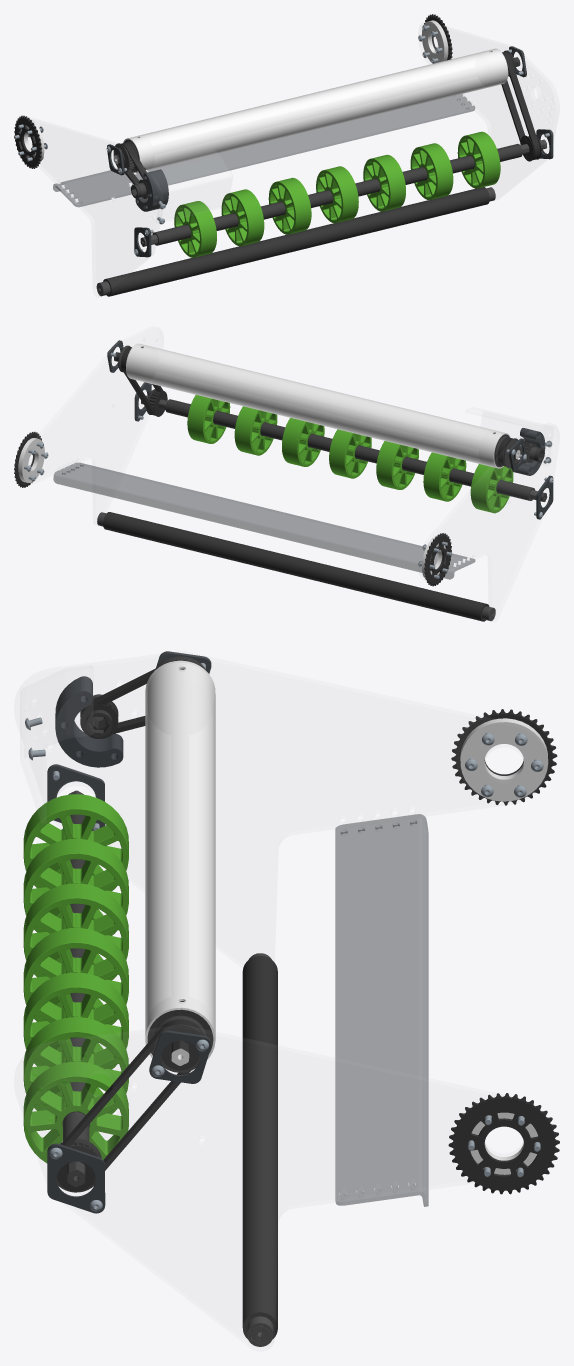
The picture shows the model from 3 angles, top to bottom: view 1: azimuth 30°, elevation 25°; view 2: azimuth 150°, elevation 25°; view 3: azimuth 270°, elevation 25°; orthographic projection. The views are drawn at different scales.
Parts seen in each view (by area): view 1: Deadaxle Tube_23.366_in, 3" Compliant Wheel (35A, 1" Wide, 1/2" Hex Bore) (×7), Part 39, 70T 5M 9mm Wide Belt, Part 51, 36t Aluminum Plate Sprocket (#25, 1.125" Round Bore), Intake Sprocket Spacer, 1/2" Hex Bore Custom Spacer (0.75" OD,2.044" L), 45T 5M 9mm Wide Belt, 3DP Bearing Hat, Roller Endcap_HTD_24_Tooth_Square Nut, 1" Solid Urethane Wheel (45A, 1" Wide, 1/2" Hex Bore); view 2: Deadaxle Tube_23.366_in, 3" Compliant Wheel (35A, 1" Wide, 1/2" Hex Bore) (×7), Part 39, 36t Aluminum Plate Sprocket (#25, 1.125" Round Bore), Intake Sprocket Spacer, Part 51, 1/2" Hex Bore Custom Spacer (0.75" OD,2.044" L), 70T 5M 9mm Wide Belt, 3DP Bearing Hat, 38t Aluminum Plate Sprocket (#25, 1.125" Round Bore), Roller Endcap_HTD_24_Tooth_Square Nut; view 3: Part 39, 3" Compliant Wheel (35A, 1" Wide, 1/2" Hex Bore) (×7), Deadaxle Tube_23.366_in, 38t Aluminum Plate Sprocket (#25, 1.125" Round Bore), Intake Sprocket Spacer (×2), 3DP Bearing Hat (×3), Part 51, 70T 5M 9mm Wide Belt, 36t Aluminum Plate Sprocket (#25, 1.125" Round Bore), Roller Endcap_HTD_21_Tooth_Square Nut, 45T 5M 9mm Wide Belt, 21t Custom HTD 5mm Pulley (0.375" Wide, *0.375" Hex Bore) (+1 smaller).
Boxes of the visible parts, x1,y1,x2,y2 form: Deadaxle Tube_23.366_in: [123, 48, 508, 173]; 3" Compliant Wheel (35A, 1" Wide, 1/2" Hex Bore) (×7): [174, 131, 500, 257]; Part 39: [53, 94, 475, 207]; 70T 5M 9mm Wide Belt: [501, 52, 540, 160]; Part 51: [135, 169, 168, 211]; 36t Aluminum Plate Sprocket (#25, 1.125" Round Bore): [14, 115, 42, 168]; Intake Sprocket Spacer: [421, 20, 448, 63]; 1/2" Hex Bore Custom Spacer (0.75" OD,2.044" L): [152, 224, 191, 245]; 45T 5M 9mm Wide Belt: [121, 142, 148, 197]; 3DP Bearing Hat: [134, 227, 151, 257]; Roller Endcap_HTD_24_Tooth_Square Nut: [113, 137, 146, 173]; 1" Solid Urethane Wheel (45A, 1" Wide, 1/2" Hex Bore): [103, 275, 127, 296]; Deadaxle Tube_23.366_in: [126, 343, 510, 468]; 3" Compliant Wheel (35A, 1" Wide, 1/2" Hex Bore) (×7): [187, 395, 513, 513]; Part 39: [53, 462, 475, 579]; 36t Aluminum Plate Sprocket (#25, 1.125" Round Bore): [424, 533, 451, 586]; Intake Sprocket Spacer: [18, 438, 44, 482]; Part 51: [512, 428, 545, 475]; 1/2" Hex Bore Custom Spacer (0.75" OD,2.044" L): [496, 480, 535, 500]; 70T 5M 9mm Wide Belt: [121, 347, 163, 415]; 3DP Bearing Hat: [536, 475, 553, 519]; 38t Aluminum Plate Sprocket (#25, 1.125" Round Bore): [14, 431, 41, 487]; Roller Endcap_HTD_24_Tooth_Square Nut: [493, 433, 520, 468]; Part 39: [335, 814, 428, 1206]; 3" Compliant Wheel (35A, 1" Wide, 1/2" Hex Bore) (×7): [23, 794, 128, 1163]; Deadaxle Tube_23.366_in: [145, 660, 215, 1059]; 38t Aluminum Plate Sprocket (#25, 1.125" Round Bore): [448, 1093, 559, 1194]; Intake Sprocket Spacer (×2): [460, 718, 548, 1174]; 3DP Bearing Hat (×3): [47, 764, 211, 1213]; Part 51: [55, 676, 123, 767]; 70T 5M 9mm Wide Belt: [61, 1019, 203, 1170]; 36t Aluminum Plate Sprocket (#25, 1.125" Round Bore): [451, 709, 557, 805]; Roller Endcap_HTD_21_Tooth_Square Nut: [147, 1001, 213, 1072]; 45T 5M 9mm Wide Belt: [81, 660, 193, 733]; 21t Custom HTD 5mm Pulley (0.375" Wide, *0.375" Hex Bore): [56, 1138, 101, 1192].
Bounding box in the file's own units: 0.6769 × 0.2632 × 0.3945.
